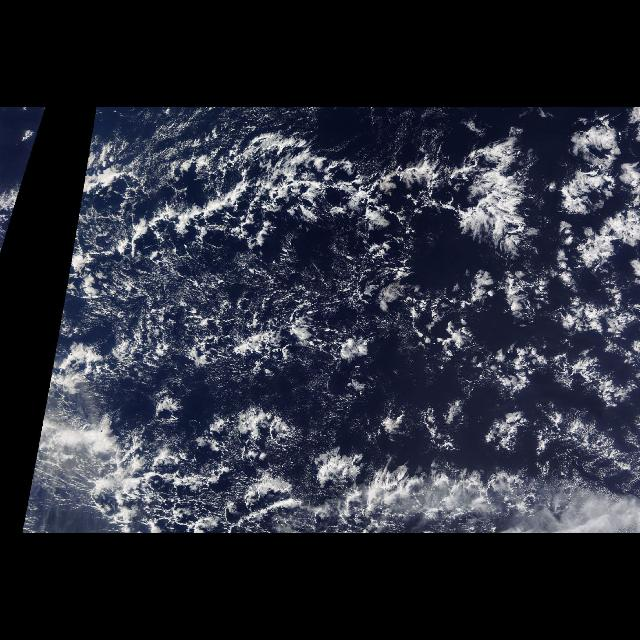Fish: (64, 114, 442, 432), (24, 138, 38, 180)
Flower: (417, 110, 638, 460)
Gravel: (22, 111, 398, 529), (10, 110, 44, 224)
